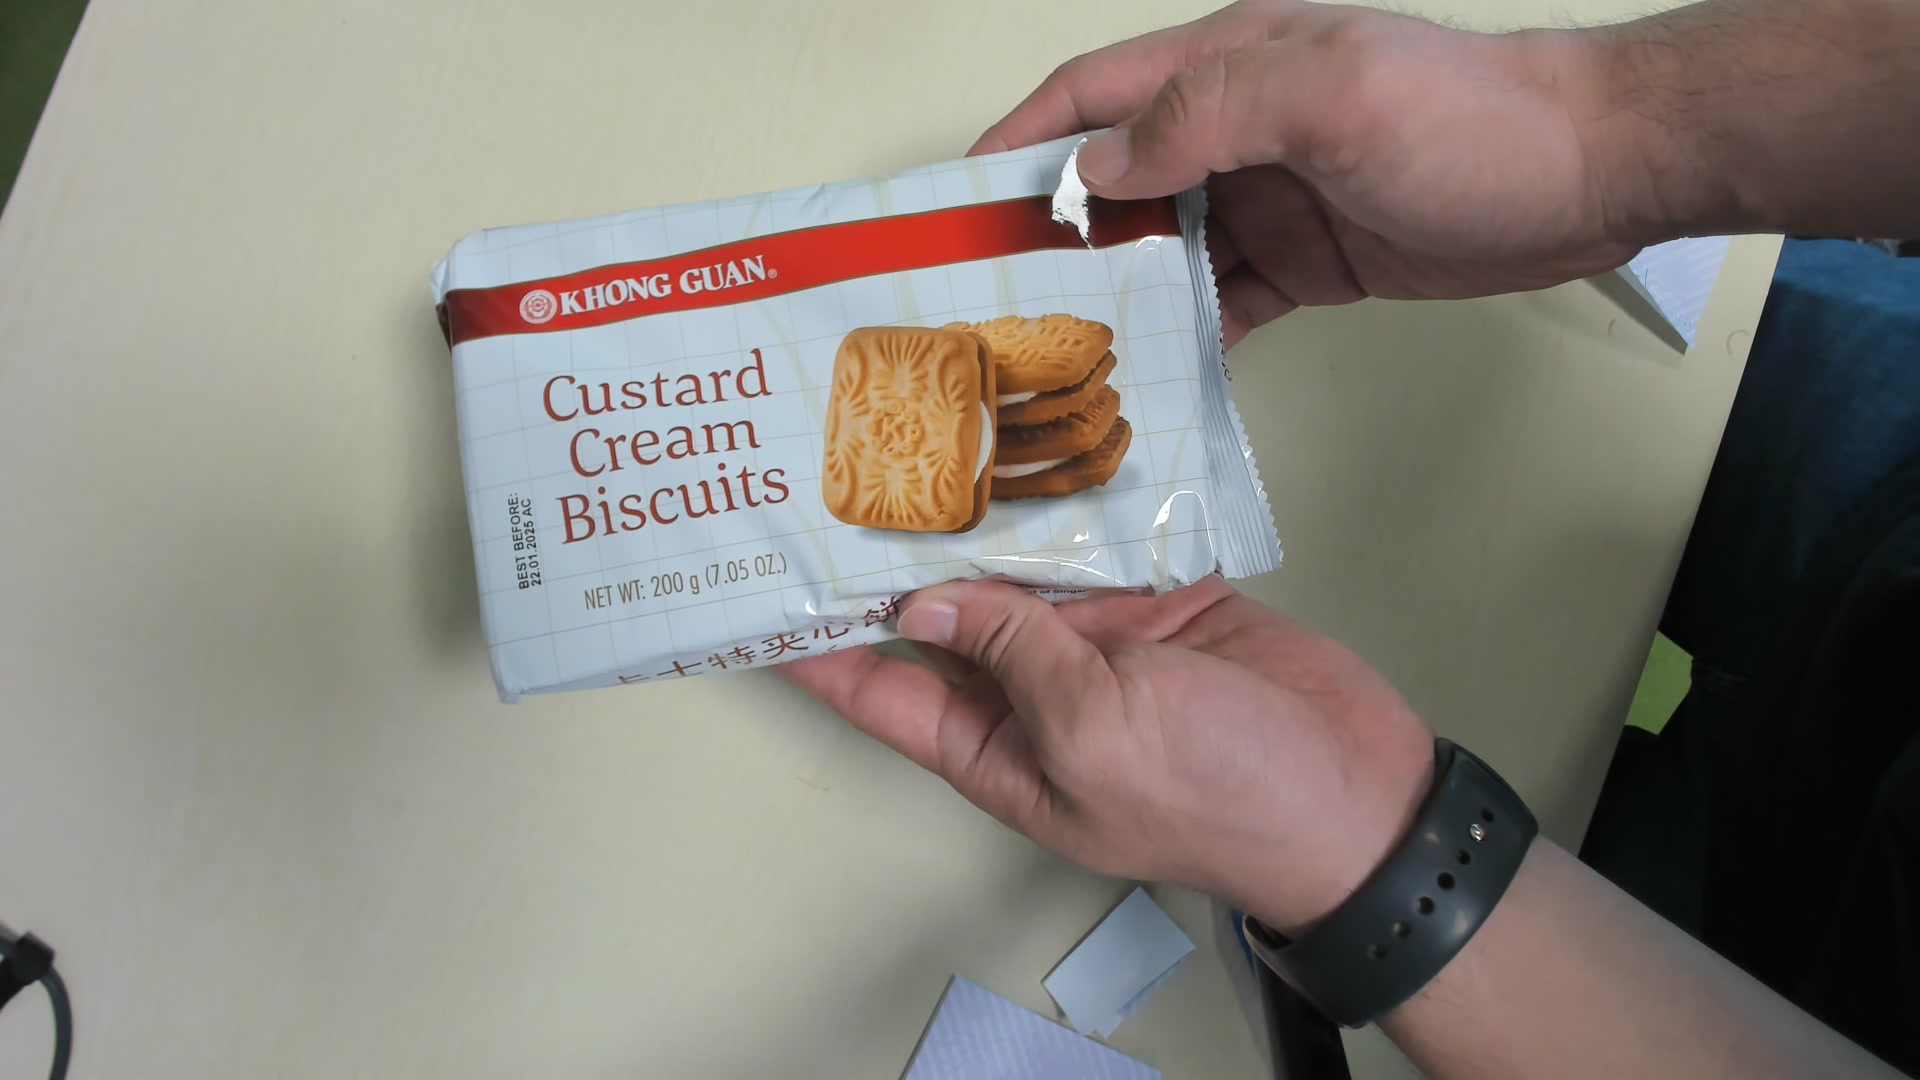BiscuitsCrackersCookies_200-299g_Halal_NonHealthy: (429, 133, 1294, 702)
